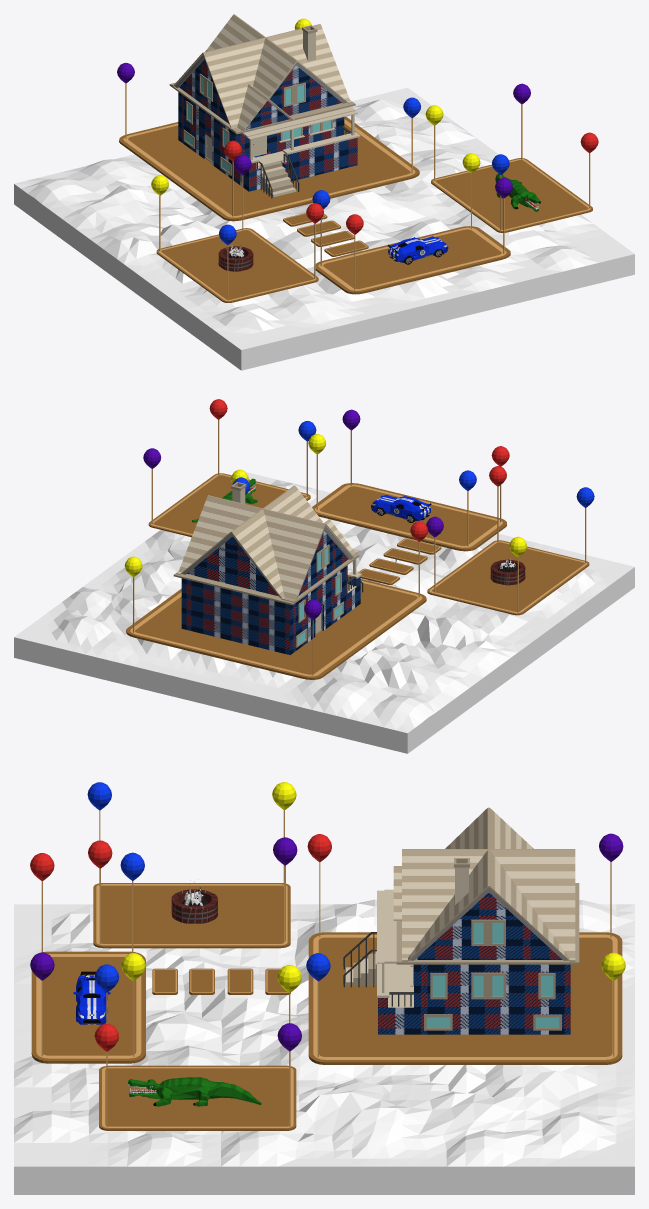
The picture shows the model from 3 angles, top to bottom: view 1: azimuth 30°, elevation 25°; view 2: azimuth 150°, elevation 25°; view 3: azimuth 270°, elevation 25°; orthographic projection. The views are drawn at different scales.
Parts seen in each view (by area): view 1: Cube.013, Cube.171, VEHICLES_RACING_CAR, OBJRANDOM_CAMPFIRE, ANIMAL_COCODRILO; view 2: Cube.013, Cube.171, VEHICLES_RACING_CAR, OBJRANDOM_CAMPFIRE; view 3: Cube.013, Cube.171, ANIMAL_COCODRILO, VEHICLES_RACING_CAR, OBJRANDOM_CAMPFIRE.
Part boxes in pixels (x1,y1,x2,y2): Cube.013: (14,18,634,370); Cube.171: (169,14,360,198); VEHICLES_RACING_CAR: (387,236,448,264); OBJRANDOM_CAMPFIRE: (218,244,253,271); ANIMAL_COCODRILO: (495,173,540,211); Cube.013: (14,399,634,753); Cube.171: (173,482,363,654); VEHICLES_RACING_CAR: (371,495,431,522); OBJRANDOM_CAMPFIRE: (490,559,525,585); Cube.013: (14,782,634,1194); Cube.171: (343,807,579,1034); ANIMAL_COCODRILO: (128,1077,261,1106); VEHICLES_RACING_CAR: (73,971,110,1024); OBJRANDOM_CAMPFIRE: (171,887,217,923).
Bounding box in the file's own units: 4000 × 1789 × 4000.
33 materials, 2 textured.
